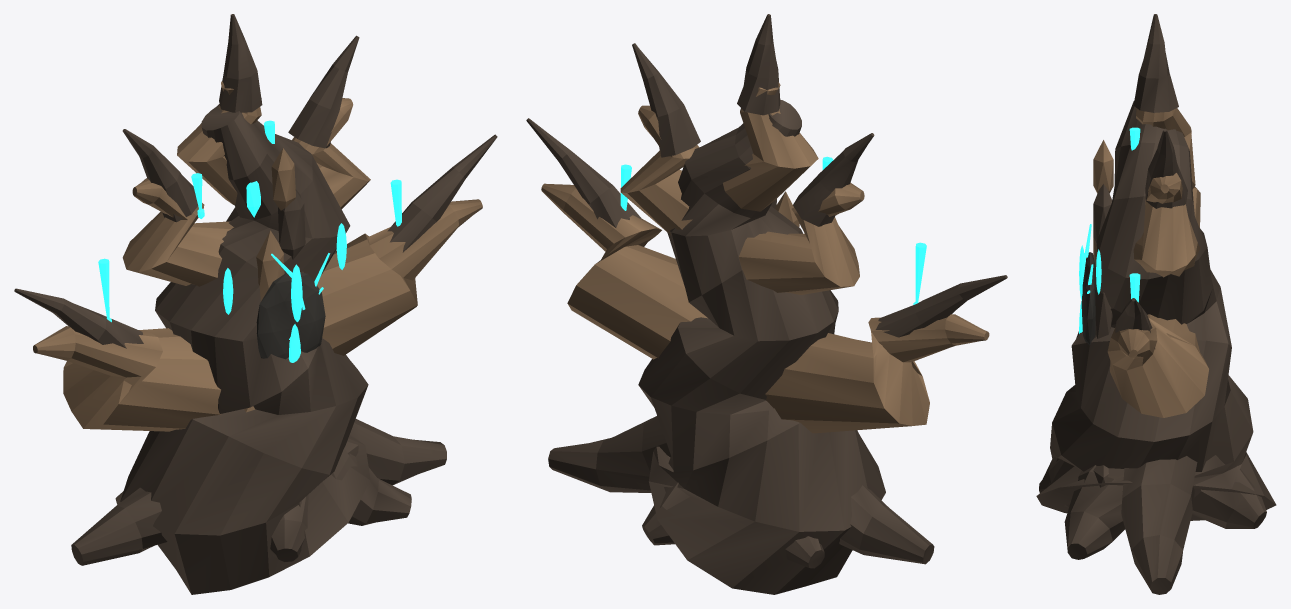
File: ashroot-tree.glb
3 views of the same model, side by side, from view 1: azimuth 30°, elevation 25°; view 2: azimuth 150°, elevation 25°; view 3: azimuth 270°, elevation 25° (orthographic). The views are drawn at different scales.
Parts seen in each view (by area): view 1: Ashroot | twisted trunk, Ashroot | twisted branch 1, Ashroot | twisted branch 2, Ashroot | twisted branch 3, Ashroot | exposed root 1, Ashroot | hollow heart, Ashroot | exposed root 2, Ashroot | fork 2, Ashroot | fork 4, Ashroot | fork 5, Ashroot | fork 1, Ashroot | twisted branch 5 (+7 smaller); view 2: Ashroot | twisted trunk, Ashroot | twisted branch 1, Ashroot | twisted branch 2, Ashroot | twisted branch 3, Ashroot | exposed root 2, Ashroot | twisted branch 5, Ashroot | exposed root 1, Ashroot | twisted branch 4, Ashroot | fork 4, Ashroot | fork 2, Ashroot | fork 1, Ashroot | fork 5 (+3 smaller); view 3: Ashroot | twisted trunk, Ashroot | twisted branch 2, Ashroot | exposed root 2, Ashroot | twisted branch 4, Ashroot | exposed root 4, Ashroot | exposed root 6, Ashroot | fork 5, Ashroot | fork 4, Ashroot | twisted branch 5, Ashroot | hollow heart, Ashroot | bark scar 7, Ashroot | fork 2 (+3 smaller).
Part boxes in pixels (x1,y1,x2,y2): Ashroot | twisted trunk: (120,105,370,594); Ashroot | twisted branch 1: (33,326,221,431); Ashroot | twisted branch 2: (317,199,482,355); Ashroot | twisted branch 3: (122,178,233,286); Ashroot | exposed root 1: (71,487,167,565); Ashroot | hollow heart: (256,271,325,359); Ashroot | exposed root 2: (347,419,446,485); Ashroot | fork 2: (387,134,497,252); Ashroot | fork 4: (288,35,359,148); Ashroot | fork 5: (219,14,262,112); Ashroot | fork 1: (14,288,143,348); Ashroot | twisted branch 5: (177,81,261,204); Ashroot | twisted trunk: (638,100,885,594); Ashroot | twisted branch 1: (765,314,989,433); Ashroot | twisted branch 2: (541,183,707,359); Ashroot | twisted branch 3: (739,182,864,294); Ashroot | exposed root 2: (548,416,670,492); Ashroot | twisted branch 5: (723,82,818,211); Ashroot | exposed root 1: (839,485,934,564); Ashroot | twisted branch 4: (620,105,699,235); Ashroot | fork 4: (632,43,700,157); Ashroot | fork 2: (526,118,642,247); Ashroot | fork 1: (875,275,1007,337); Ashroot | fork 5: (737,14,780,115); Ashroot | twisted trunk: (1036,101,1276,520); Ashroot | twisted branch 2: (1107,314,1208,417); Ashroot | exposed root 2: (1121,456,1197,594); Ashroot | twisted branch 4: (1133,173,1200,277); Ashroot | exposed root 4: (1064,465,1124,559); Ashroot | exposed root 6: (1192,455,1266,528); Ashroot | fork 5: (1133,14,1178,112); Ashroot | fork 4: (1145,128,1187,208); Ashroot | twisted branch 5: (1136,108,1195,188); Ashroot | hollow heart: (1081,252,1096,344); Ashroot | bark scar 7: (1093,140,1113,193); Ashroot | fork 2: (1115,298,1155,348).
Bounding box in the file's own units: 3.38 × 3.74 × 1.52.
